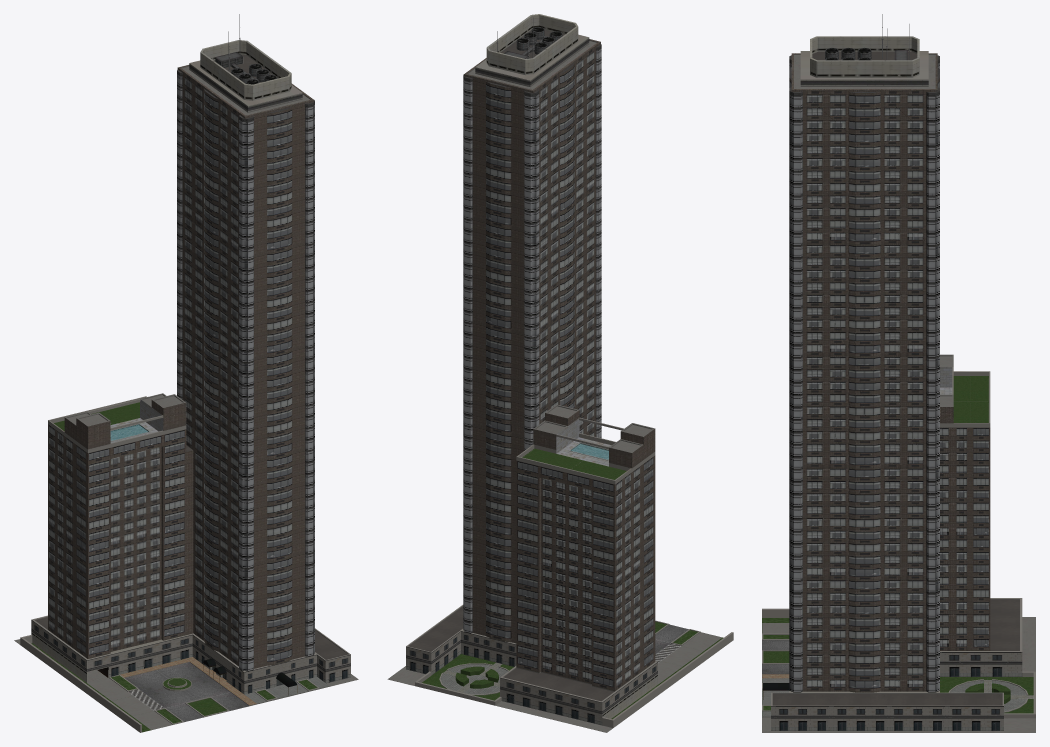
The model's file is bld_ny-condo.glb.
The picture shows the model from 3 angles, left to right: view 1: azimuth 30°, elevation 25°; view 2: azimuth 150°, elevation 25°; view 3: azimuth 270°, elevation 25°; orthographic projection. The views are drawn at different scales.
Visible parts, largest first — view 1: hirise12_hirise12_0; view 2: hirise12_hirise12_0; view 3: hirise12_hirise12_0.
Part boxes in pixels (x1=…): hirise12_hirise12_0: x1=14, y1=14, x2=358, y2=732; hirise12_hirise12_0: x1=387, y1=14, x2=733, y2=732; hirise12_hirise12_0: x1=762, y1=14, x2=1035, y2=732.
Bounding box in the file's own units: 5399 × 14835 × 5399.
Materials: 1 (1 with a texture image).
